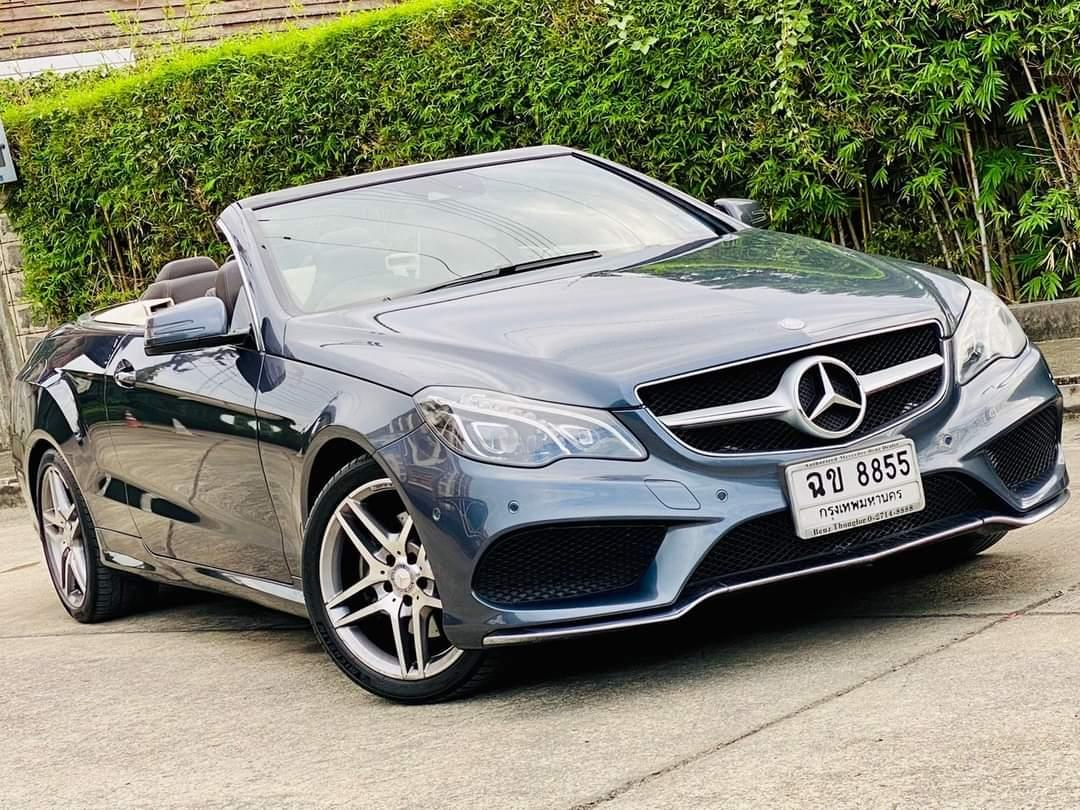license-plate: (784, 436, 932, 542)
